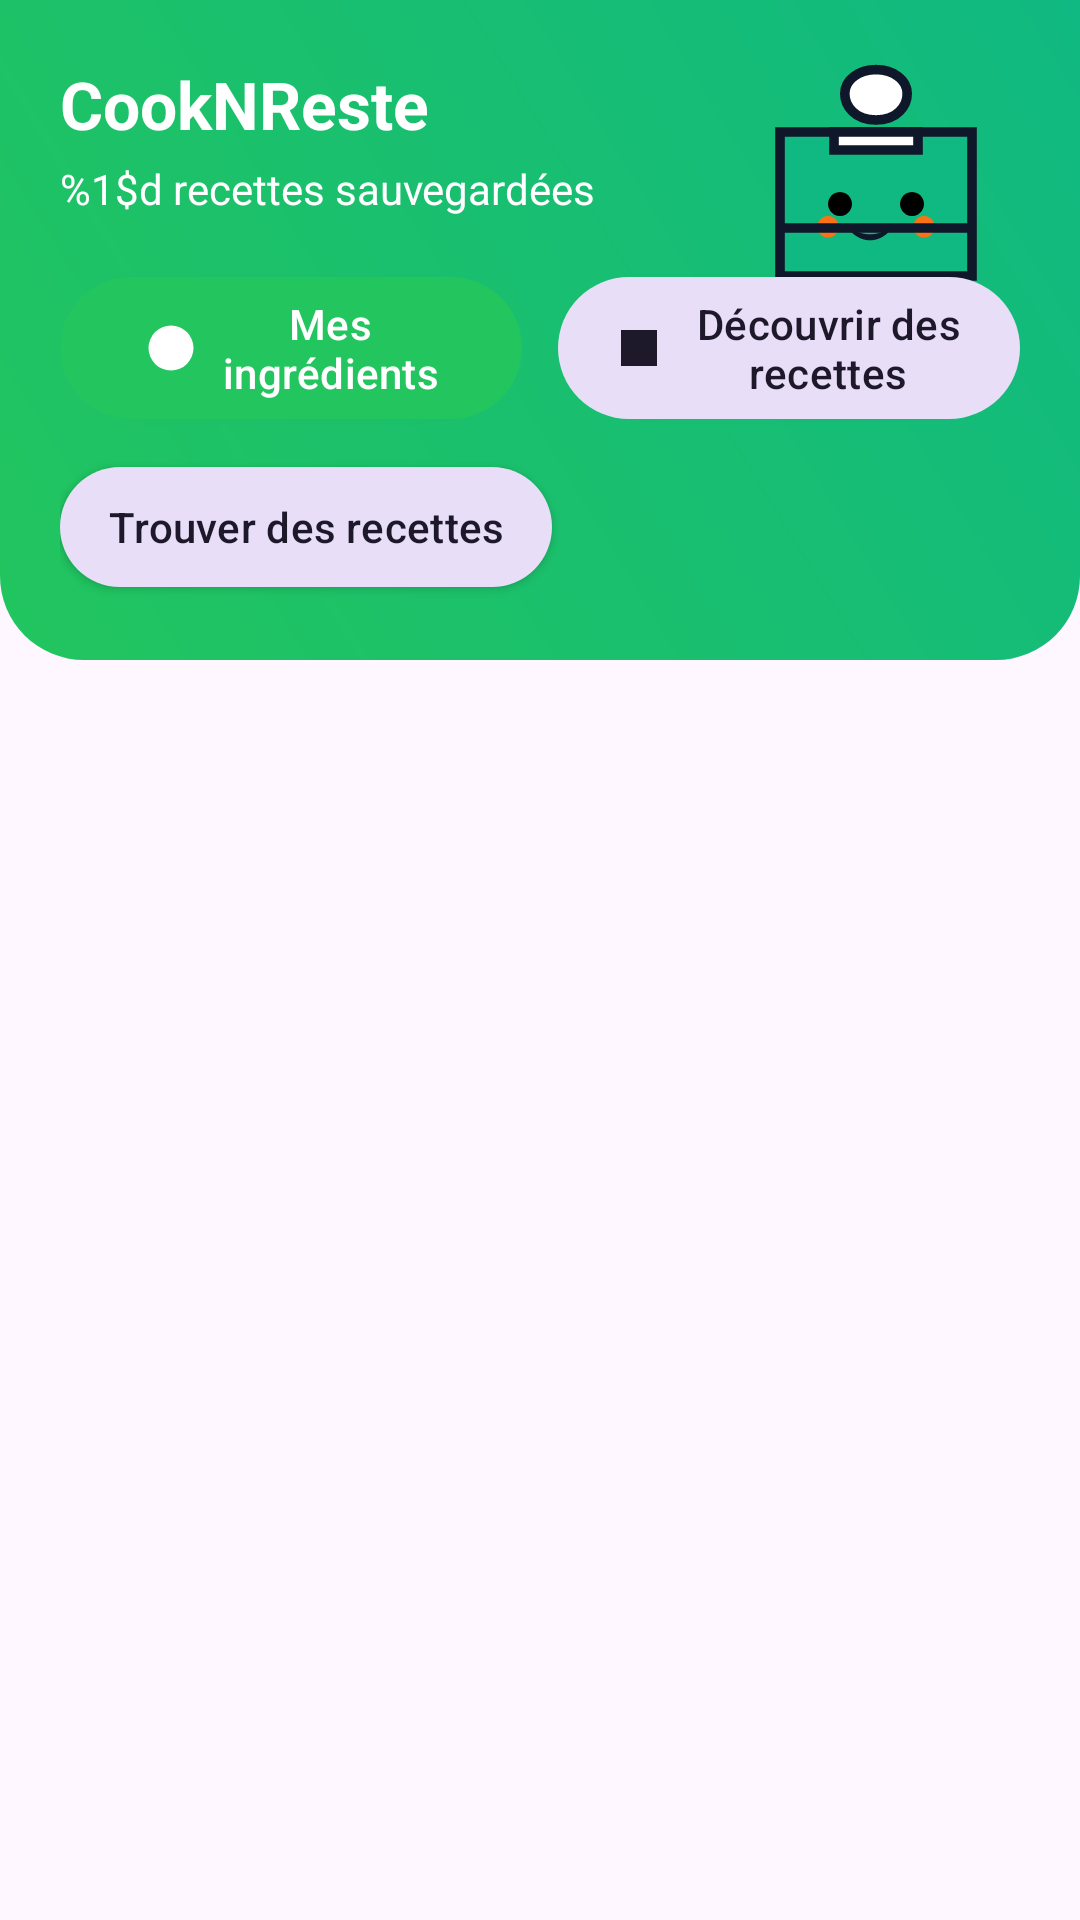

Named icons in this screenshot (1080 × 1920) and their bounding boxes, (x1, y1, x2, y2):
Mascotte: (732, 64, 1020, 348)
